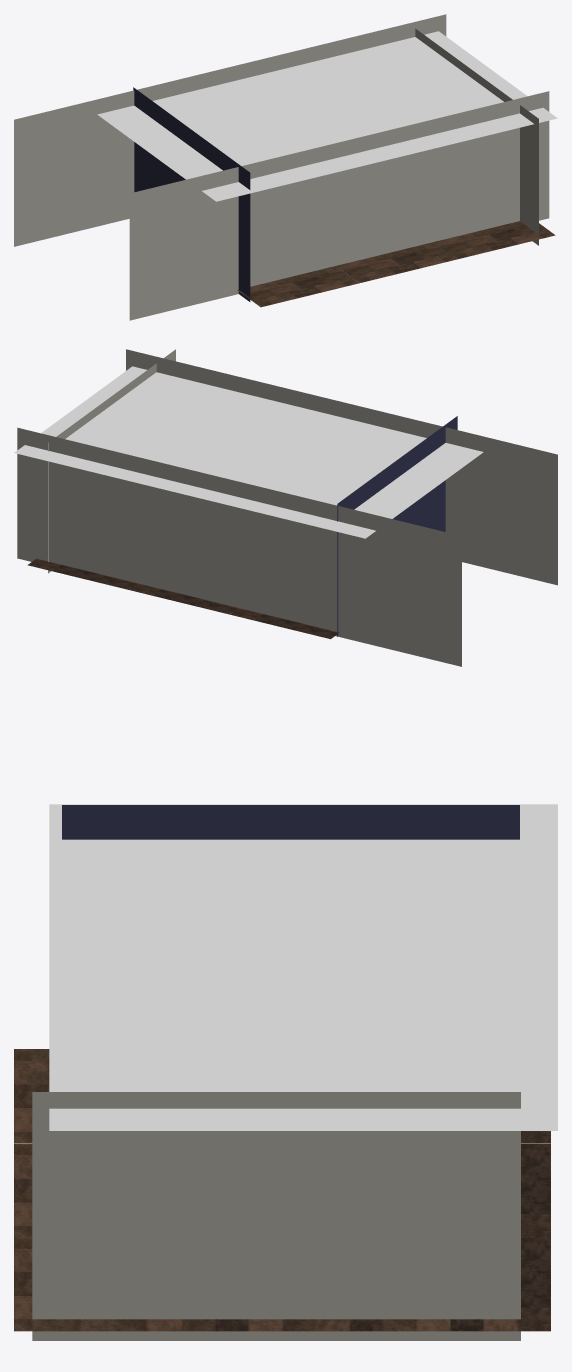
File: deskcompressedbck.glb
3 views of the same model, one above another, from view 1: azimuth 30°, elevation 25°; view 2: azimuth 150°, elevation 25°; view 3: azimuth 270°, elevation 25° (orthographic). The views are drawn at different scales.
Parts seen in each view (by area): view 1: Plane.001, Plane.006, Plane.010, Plane.004, Plane.002, Plane.008, Plane.007, Plane.003, Plane.005; view 2: Plane.004, Plane.001, Plane.010, Plane.002, Plane.008, Plane.003, Plane.005, Plane.007; view 3: Plane.001, Plane.008, Plane.002, Plane.005, Plane.007, Plane.003.
Boxes of the visible parts, x1,y1,x2,y2 form: Plane.001: (97, 31, 557, 201); Plane.006: (168, 117, 440, 310); Plane.010: (129, 91, 549, 320); Plane.004: (14, 14, 446, 246); Plane.002: (133, 87, 250, 301); Plane.008: (415, 28, 538, 245); Plane.007: (336, 242, 456, 283); Plane.003: (237, 266, 358, 307); Plane.005: (433, 221, 555, 259); Plane.004: (17, 427, 461, 666); Plane.001: (14, 366, 483, 538); Plane.010: (126, 349, 557, 585); Plane.002: (337, 416, 457, 636); Plane.008: (48, 349, 175, 573); Plane.003: (229, 608, 339, 639); Plane.005: (27, 558, 137, 589); Plane.007: (129, 583, 237, 614); Plane.001: (49, 804, 557, 1130); Plane.008: (32, 1092, 520, 1340); Plane.002: (62, 805, 519, 839); Plane.005: (14, 1238, 550, 1331); Plane.007: (14, 1143, 550, 1237); Plane.003: (14, 1049, 550, 1143).
Size of the model in its own units: 115 by 34.79 by 64.2.
85 materials, 44 textured.
